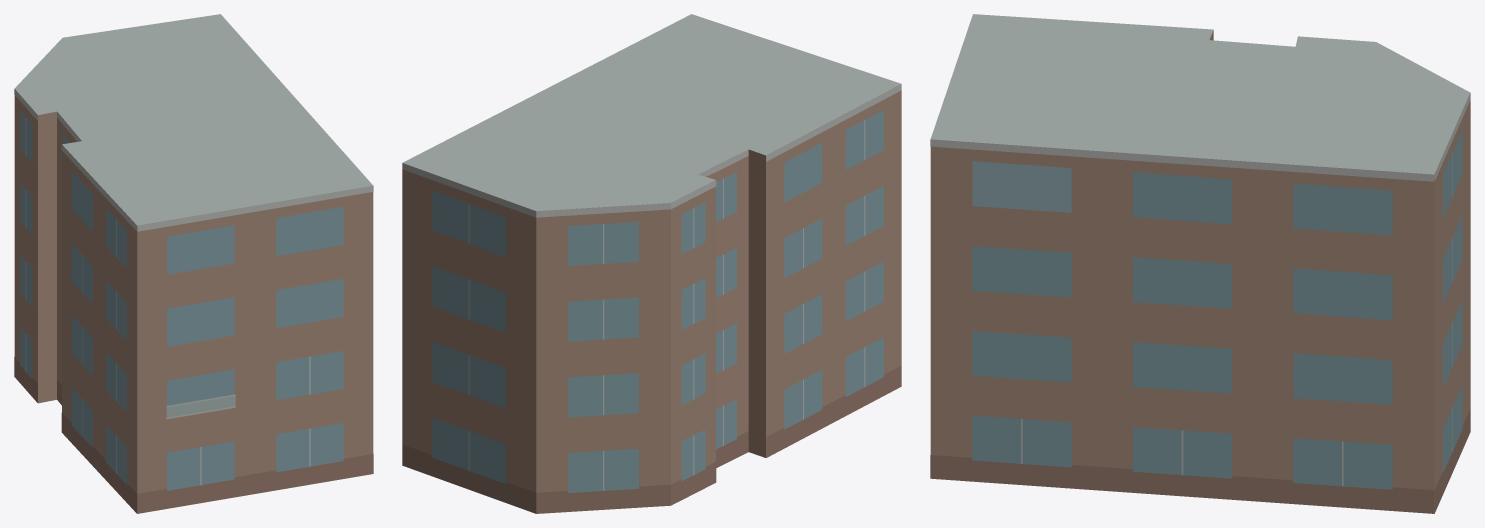
File: survey-upis-32675566.glb
3 renders of one model, left to right at view 1: azimuth 30°, elevation 25°; view 2: azimuth 150°, elevation 25°; view 3: azimuth 270°, elevation 25°, orthographic. The views are drawn at different scales.
Parts seen in each view (by area): view 1: survey-upis-32675566.tmp; view 2: survey-upis-32675566.tmp; view 3: survey-upis-32675566.tmp.
Part boxes in pixels (x1,y1,x2,y2): survey-upis-32675566.tmp: (14, 14, 373, 513); survey-upis-32675566.tmp: (402, 14, 901, 513); survey-upis-32675566.tmp: (930, 14, 1470, 513).
Bounding box in the file's own units: 11.69 × 11.5 × 16.6.
